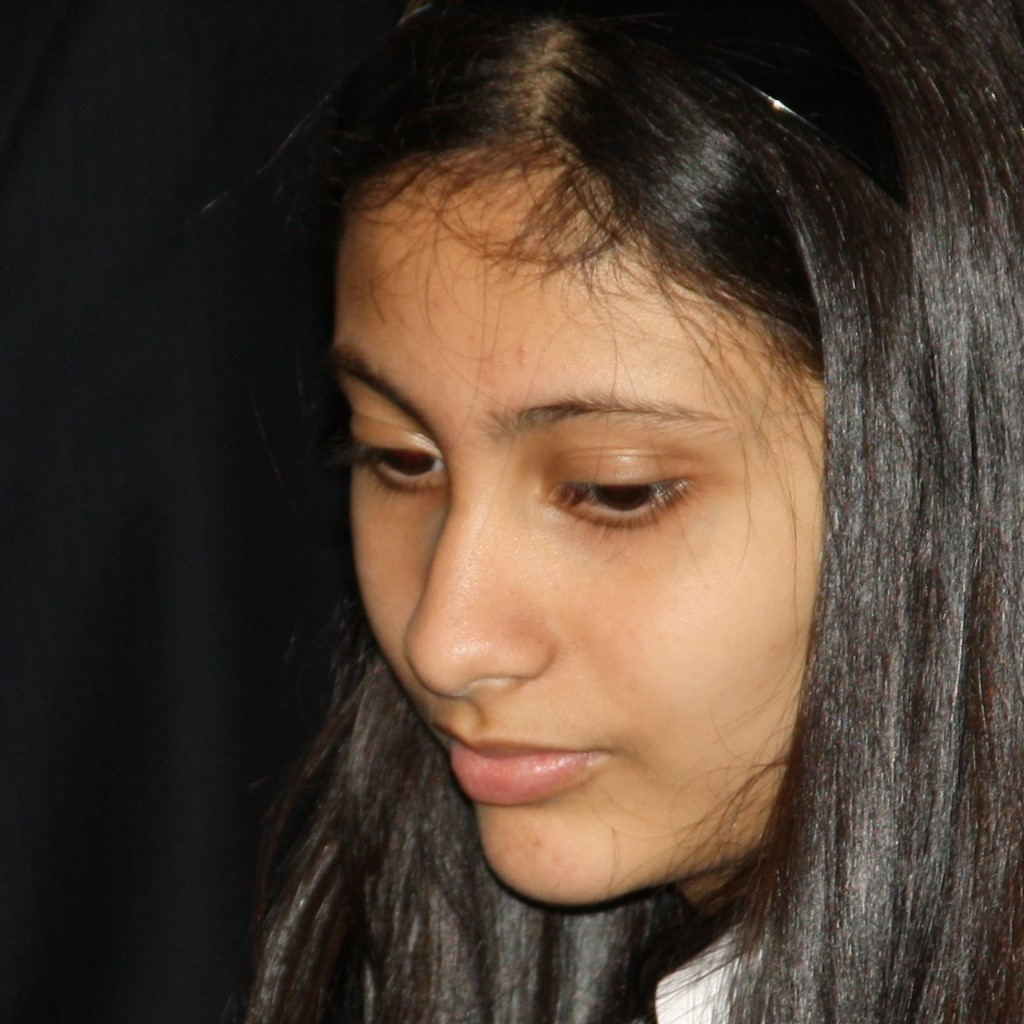sin_mascara: (305, 103, 892, 934)
